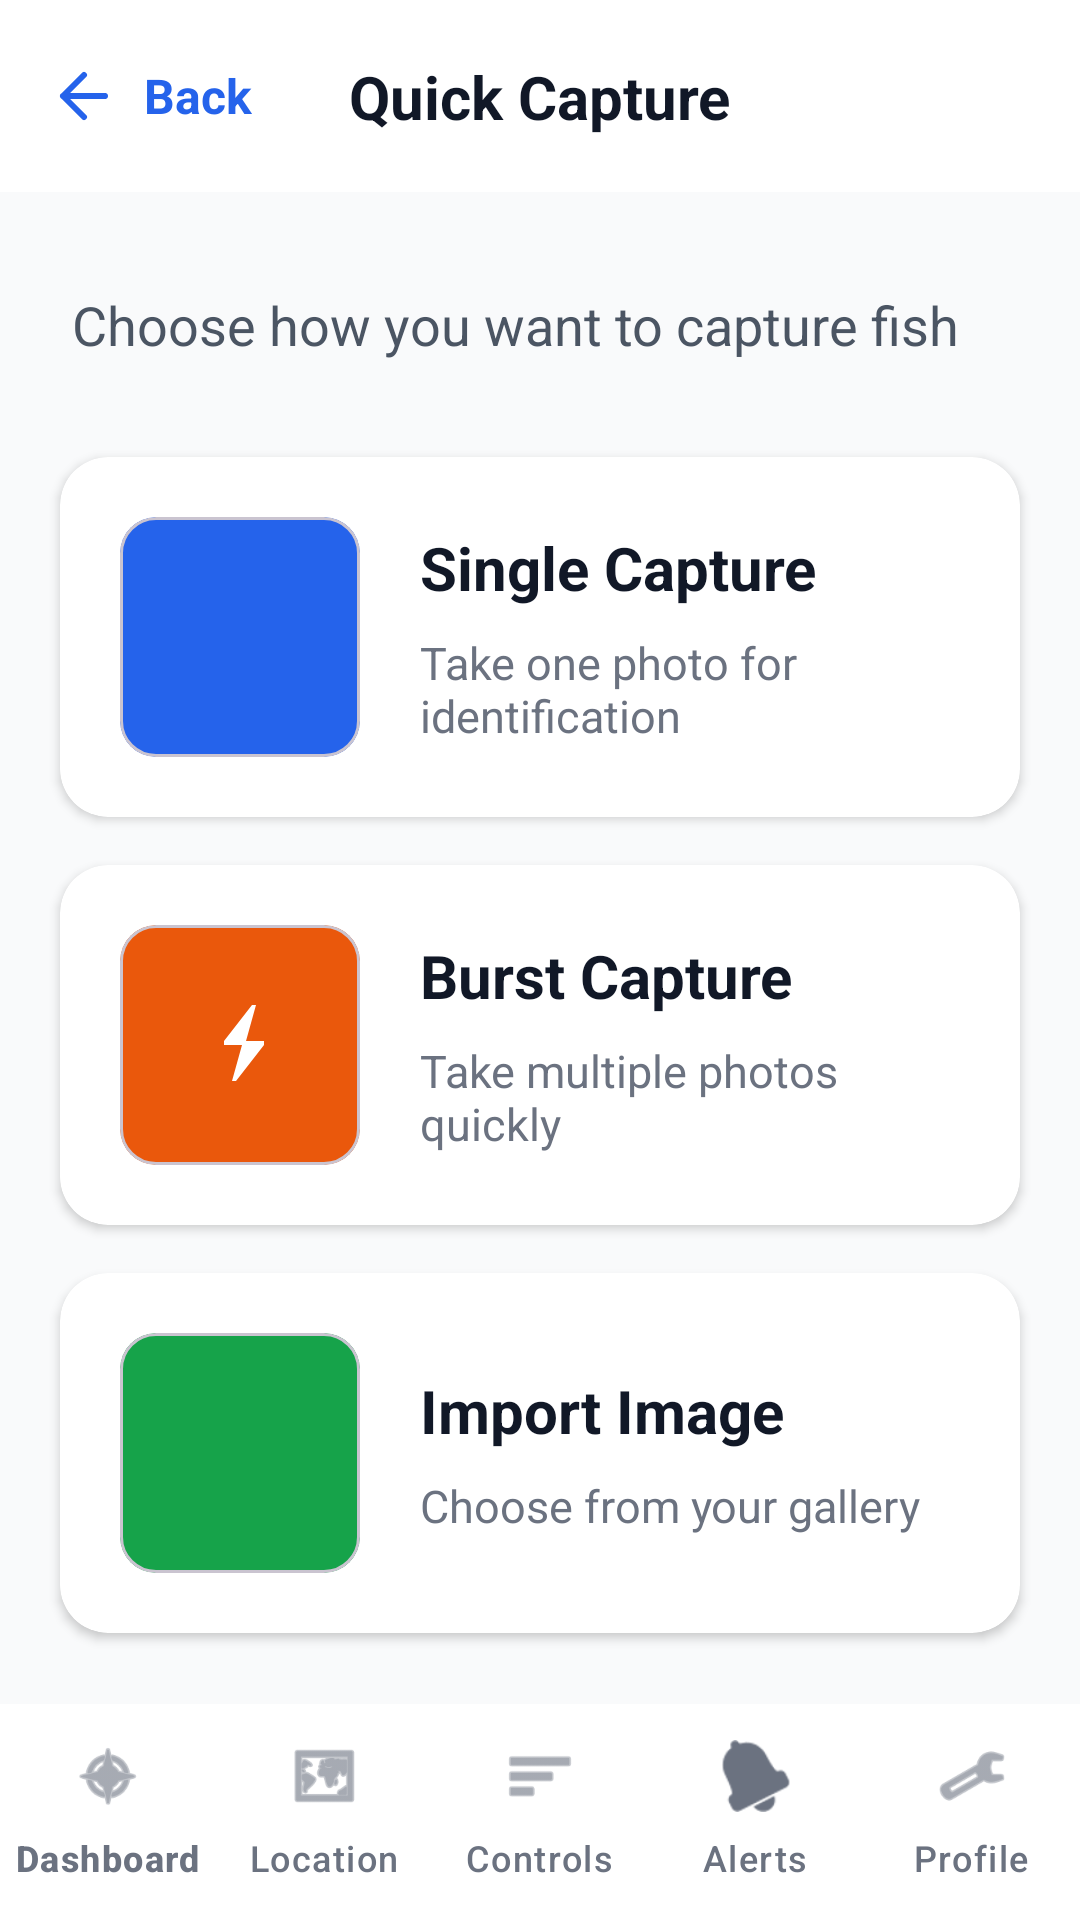

Named icons in this screenshot (1080w x 1920h) and their bounding boxes, [left=x1, top=y1, right=x2, bottom=y2]:
bolt: [left=224, top=1005, right=264, bottom=1081]
